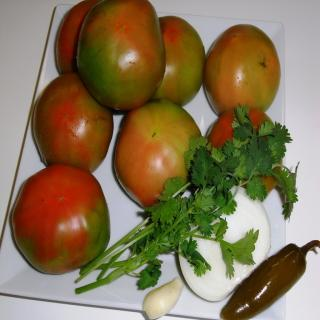tomato: (12, 165, 109, 279), (114, 98, 204, 211), (76, 0, 166, 110), (32, 74, 112, 175), (202, 21, 280, 118), (148, 13, 208, 104), (54, 0, 102, 72)
